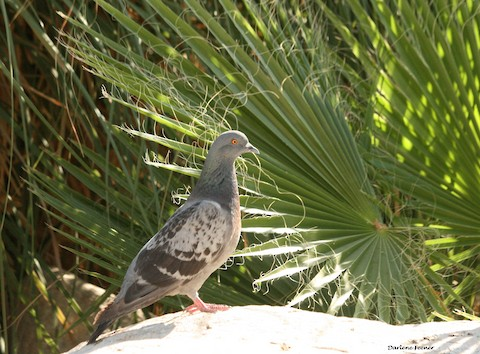pigeon: (81, 129, 259, 344)
